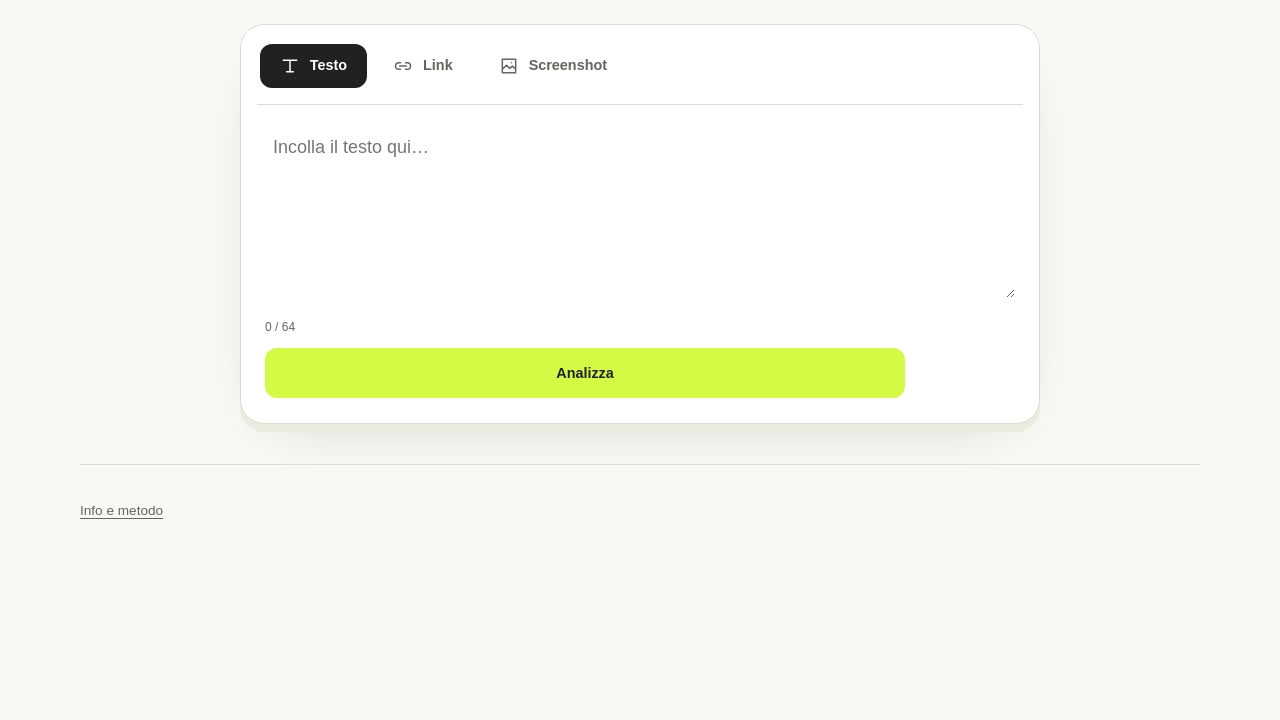
one-shot text flow › shows experimental and zero-score disclosures in it
Type " Visible text 👋 " into the text box at (640, 212), box [265,125,1015,298]
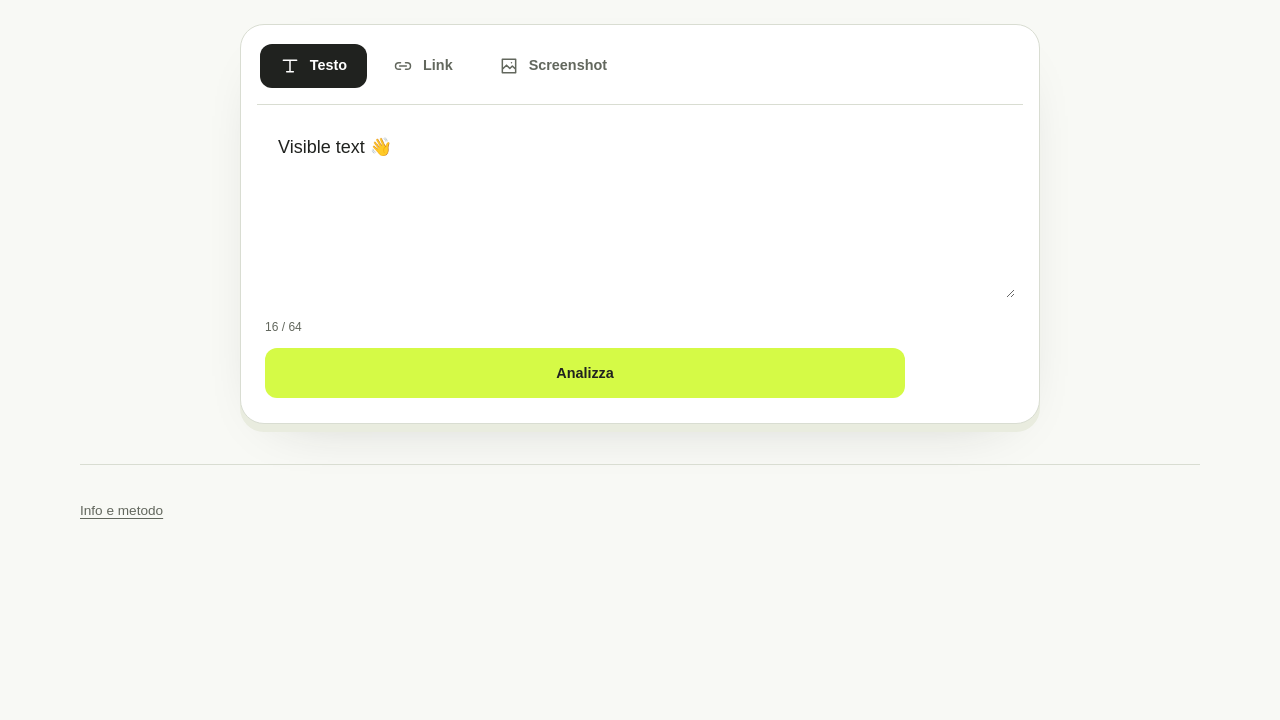
Click the button "Analizza" at (585, 373), box [265,348,905,398]
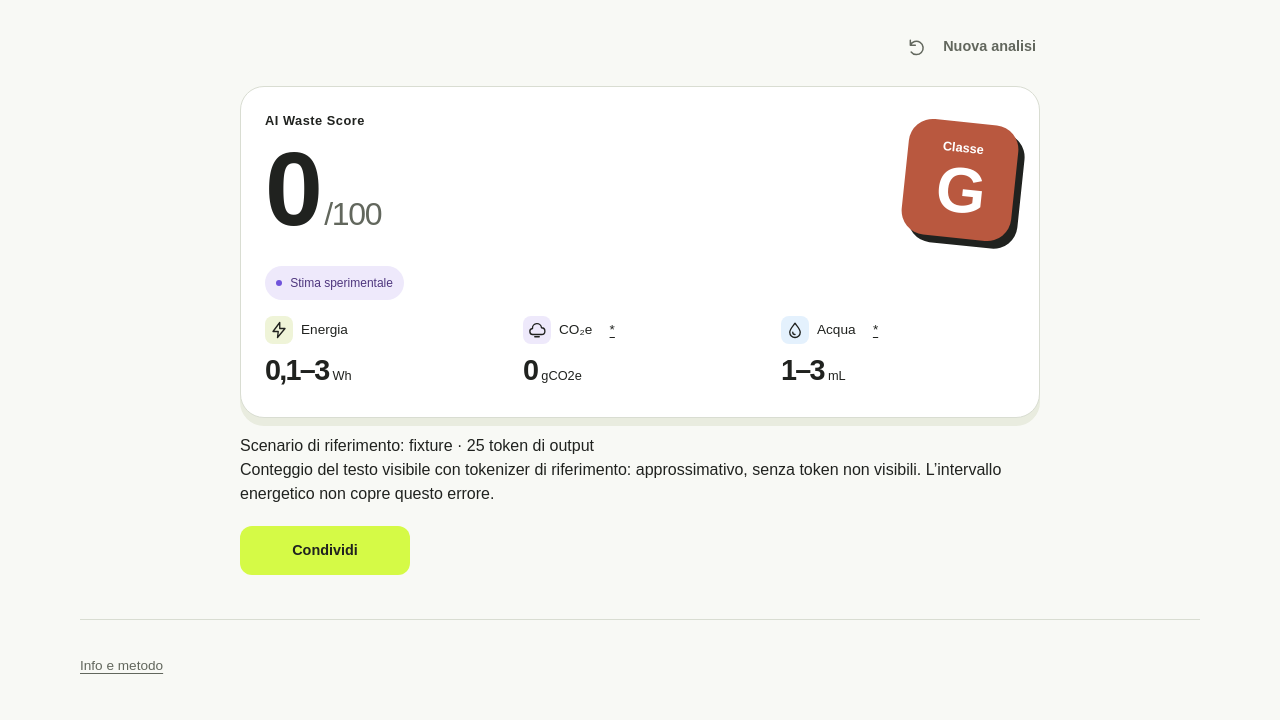
Expected: the text "Uno score arrotondato a 0 può accompagnarsi a energia stimata positiva." is not shown
Expected: the text "Stima sperimentale" is shown, [265,266,404,300]
Click the button "Info e metodo" at (122, 666), box [80,644,163,688]
(page scrolled)
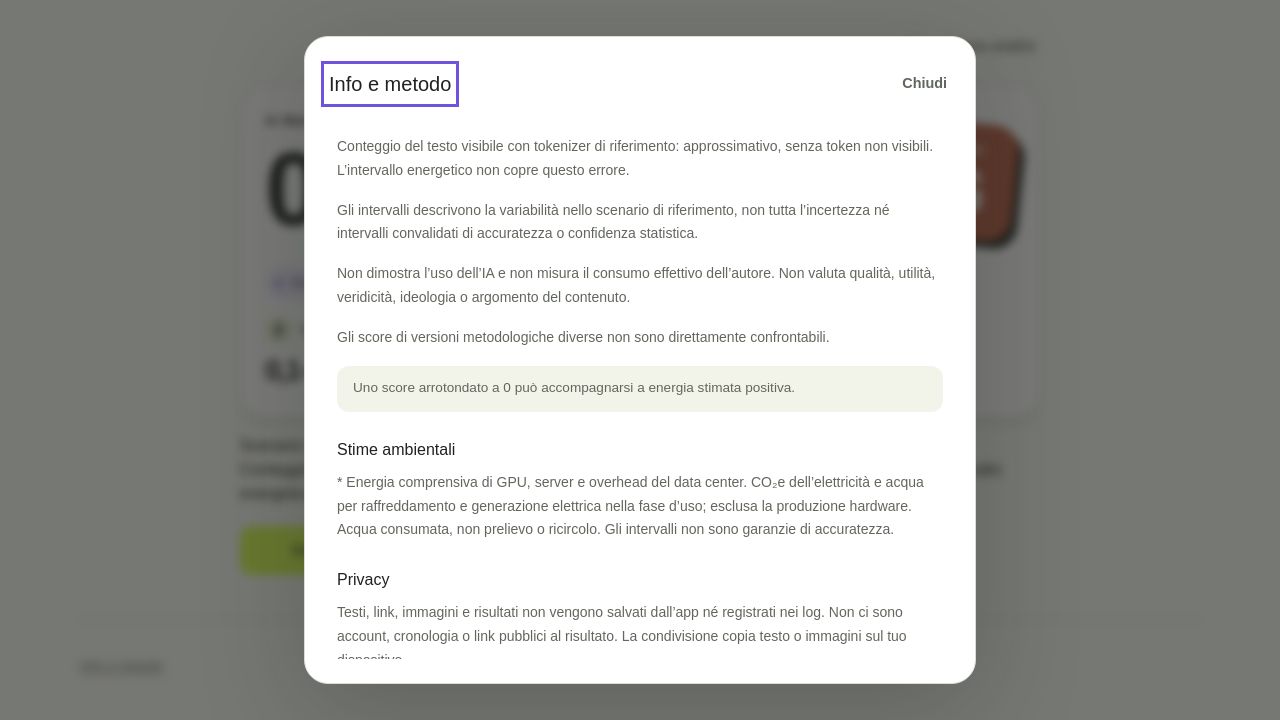
Expected: the text "Uno score arrotondato a 0 può accompagnarsi a energia stimata positiva." is shown, [337,366,943,412]
